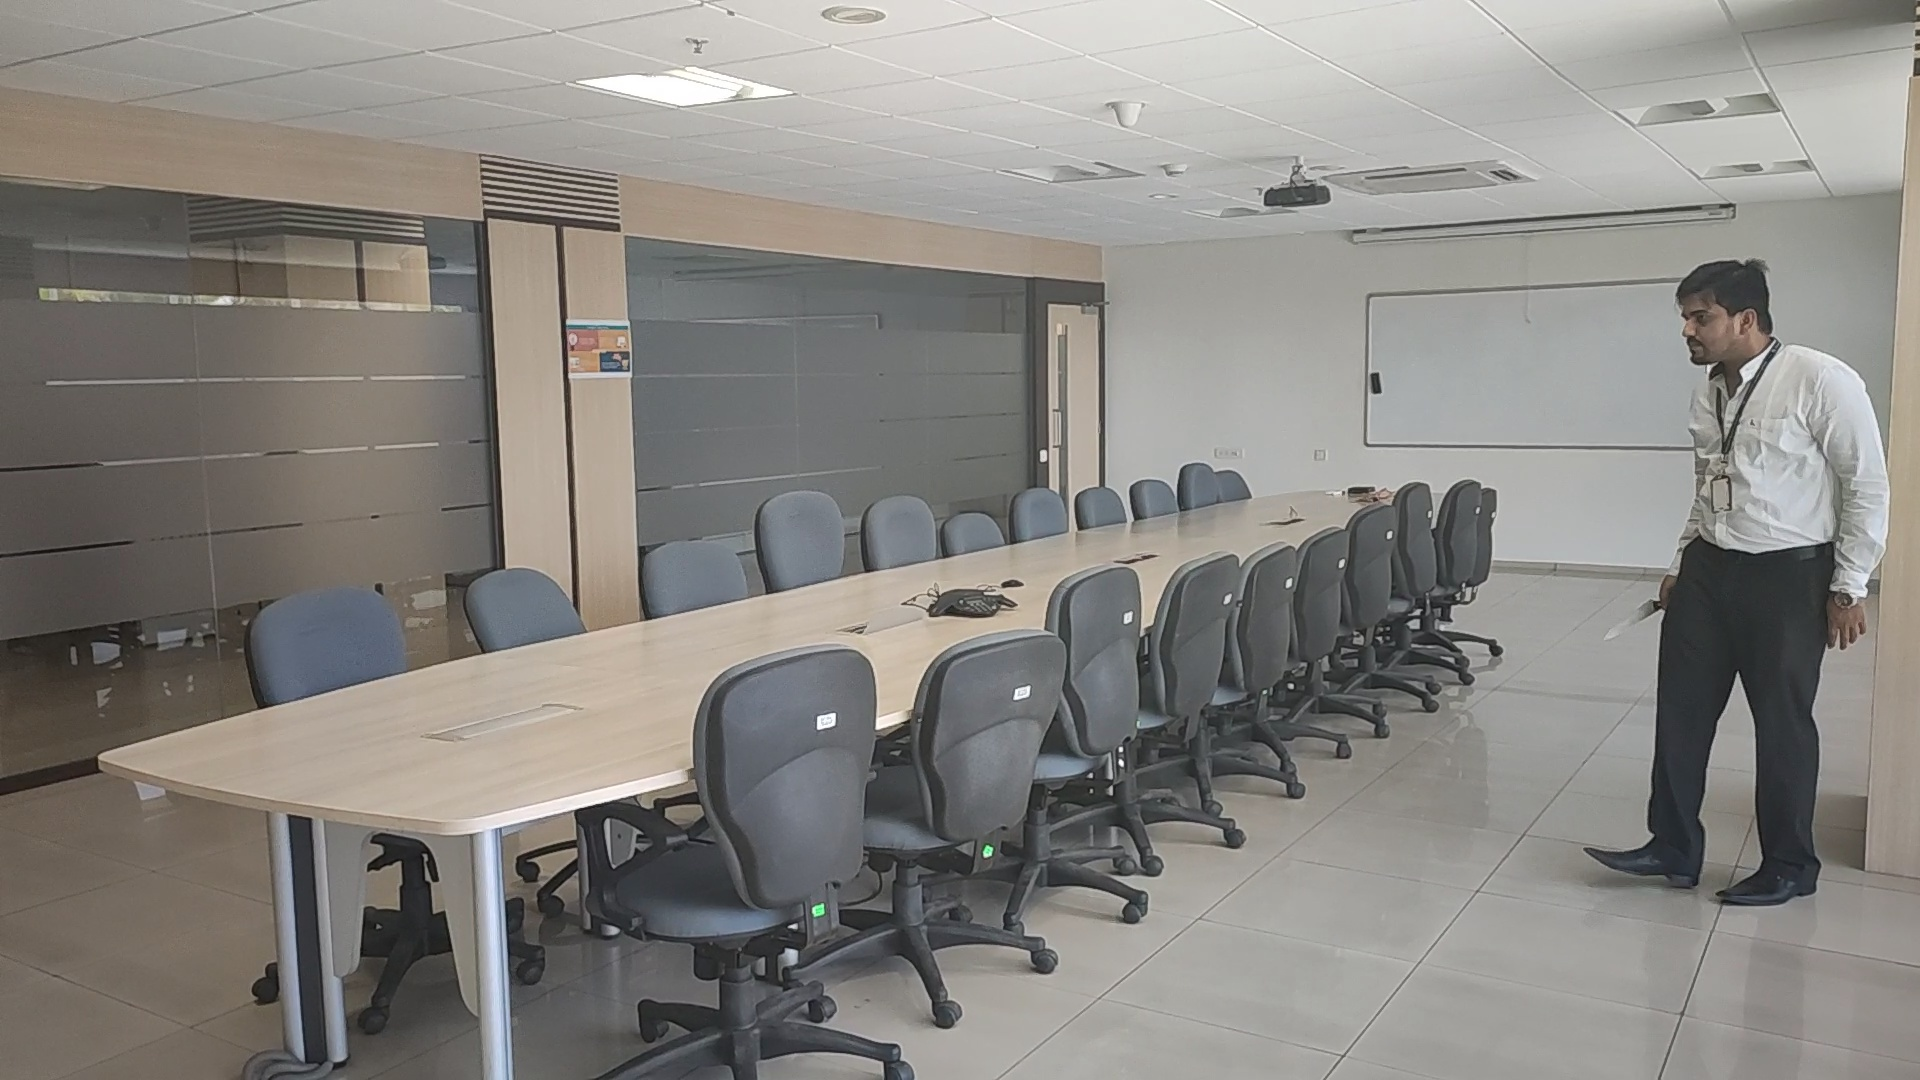knife: (1602, 597, 1659, 644)
